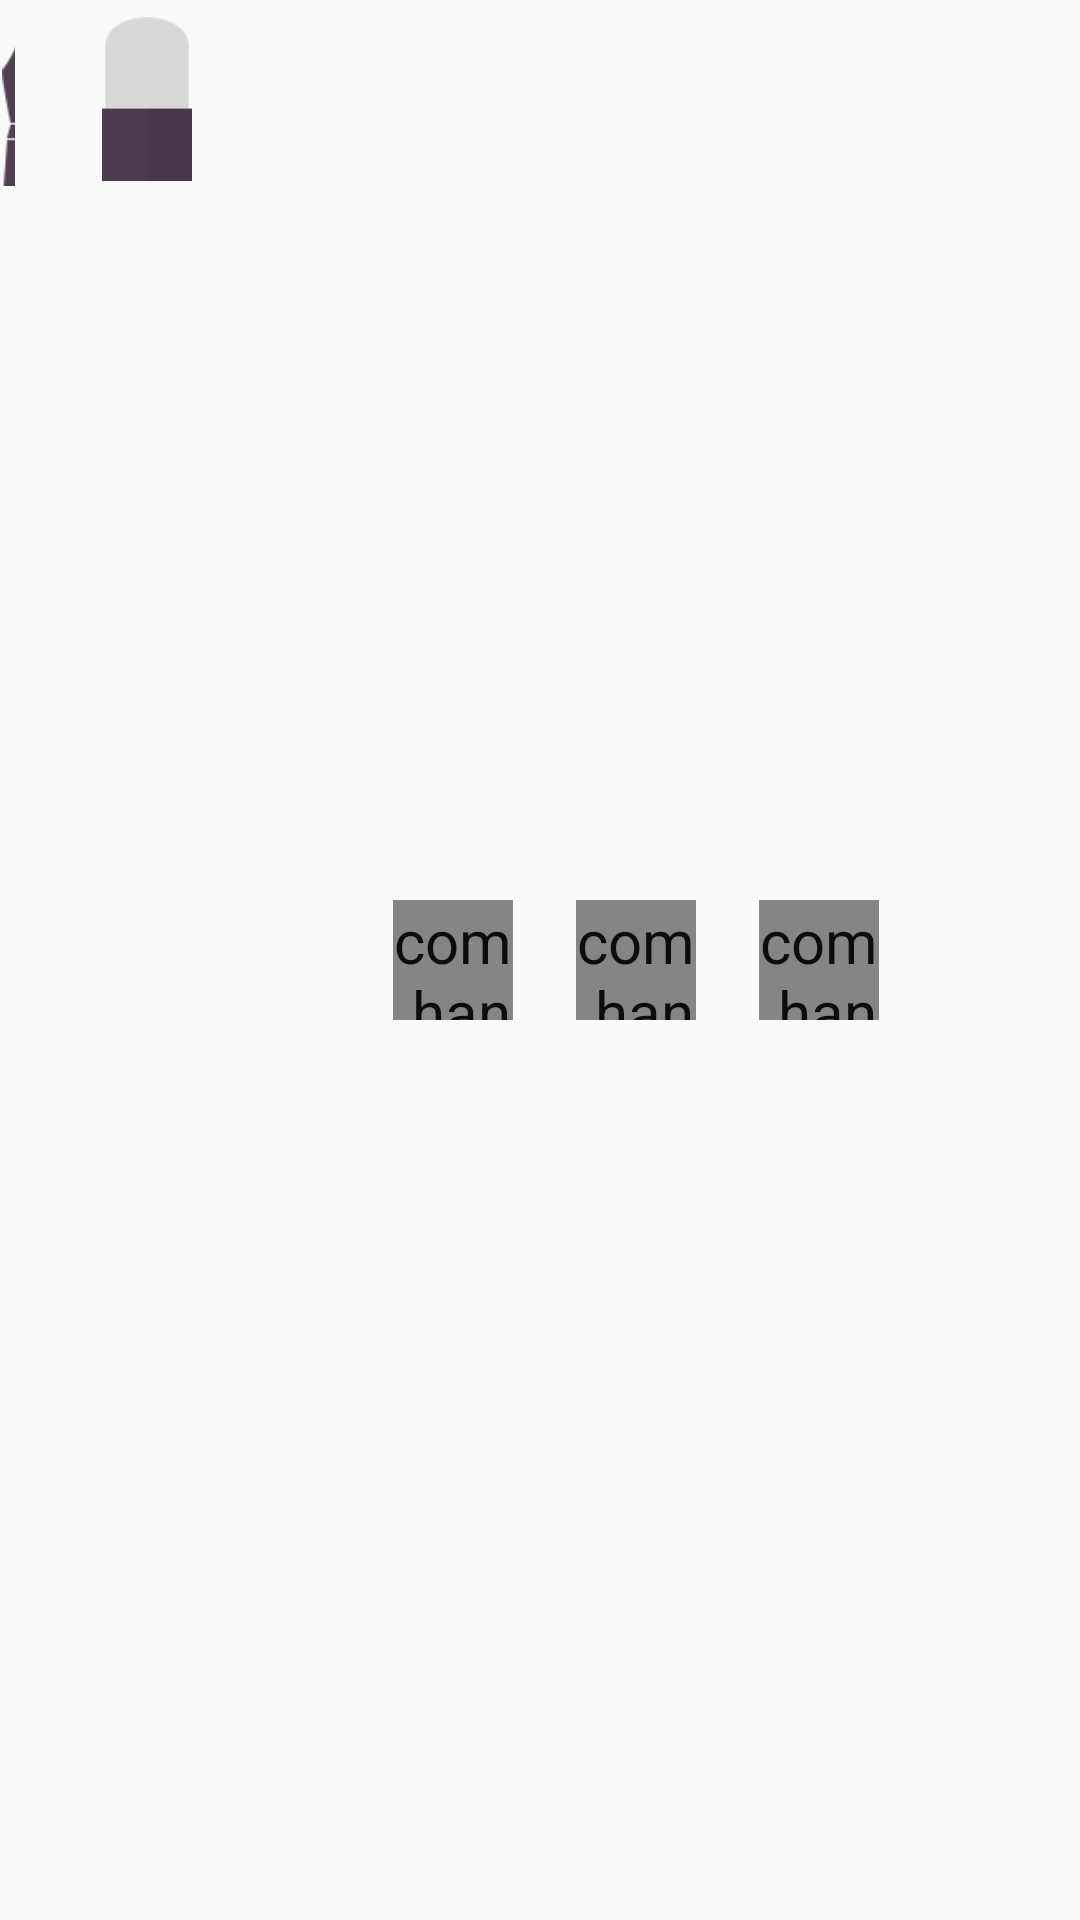

Icon bounding boxes for this 1080x1920 phone screenshot, format (x1, y1, x2, y2):
paint eraser: (102, 17, 192, 181)
